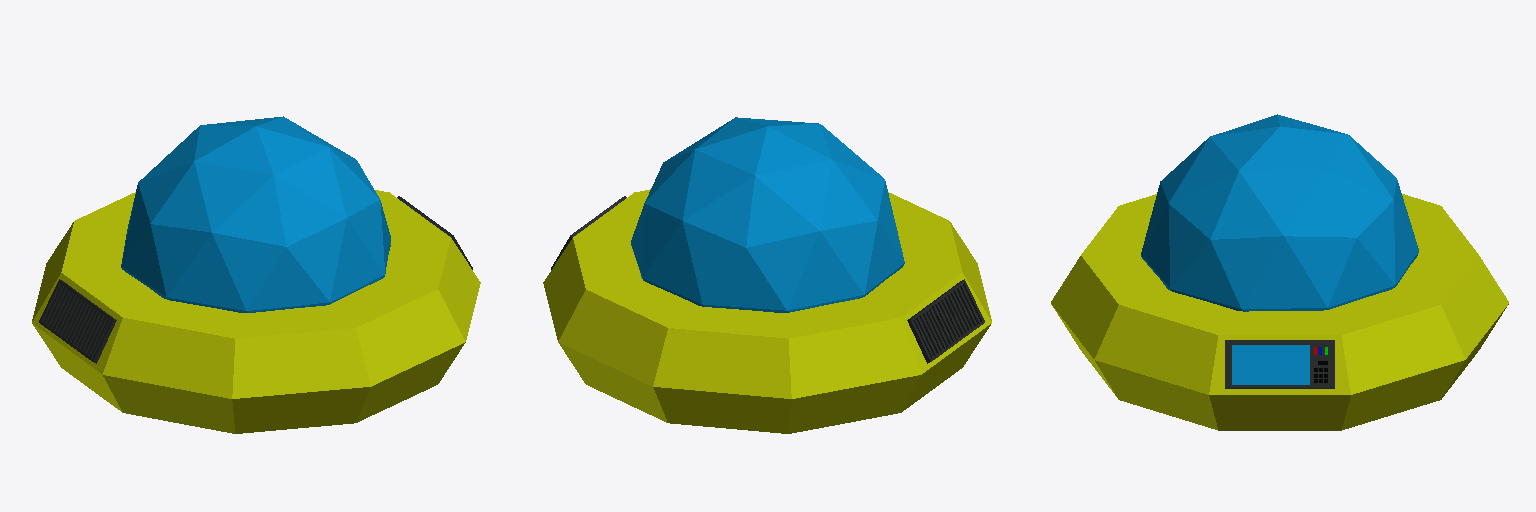
The model's file is Маячок.obj.
3 views of the same model, side by side, from view 1: azimuth 30°, elevation 25°; view 2: azimuth 150°, elevation 25°; view 3: azimuth 270°, elevation 25° (orthographic).
Parts seen in each view (by area): view 1: Маячек_Куб.009; view 2: Маячек_Куб.009; view 3: Маячек_Куб.009.
Boxes of the visible parts, x1,y1,x2,y2 form: Маячек_Куб.009: [32, 116, 480, 433]; Маячек_Куб.009: [543, 117, 991, 433]; Маячек_Куб.009: [1051, 114, 1508, 430].
Size of the model in its own units: 0.2486 by 0.162 by 0.2599.